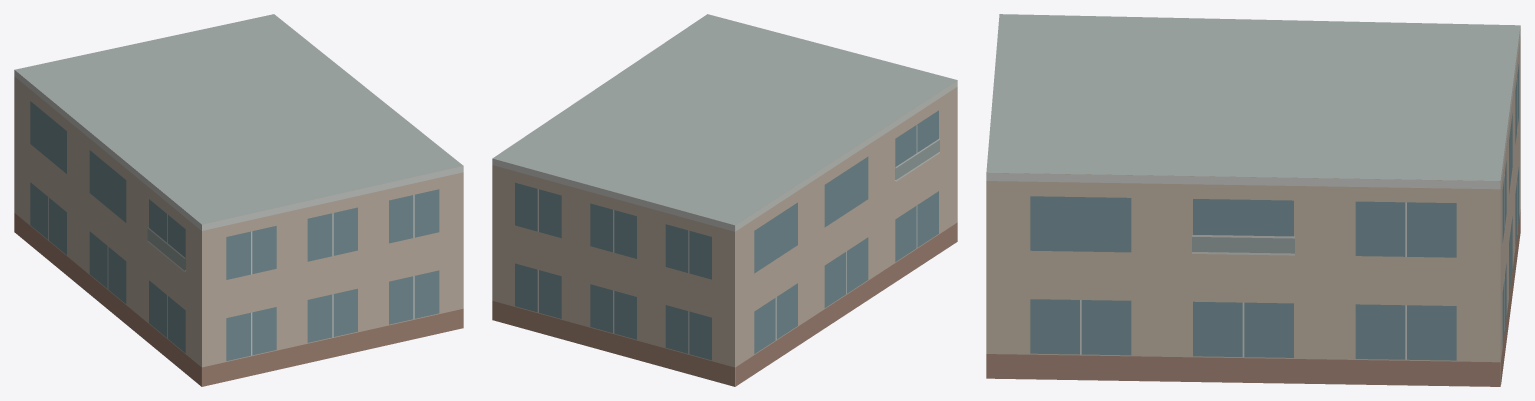
The model's file is survey-upis-32702935.glb.
3 renders of one model, left to right at view 1: azimuth 30°, elevation 25°; view 2: azimuth 150°, elevation 25°; view 3: azimuth 270°, elevation 25°, orthographic. The views are drawn at different scales.
Visible parts, largest first — view 1: survey-upis-32702935.tmp; view 2: survey-upis-32702935.tmp; view 3: survey-upis-32702935.tmp.
Boxes of the visible parts, x1,y1,x2,y2 form: survey-upis-32702935.tmp: (14,14,463,386); survey-upis-32702935.tmp: (492,14,957,386); survey-upis-32702935.tmp: (986,14,1520,386).
Bounding box in the file's own units: 10.63 × 6.1 × 14.36.
